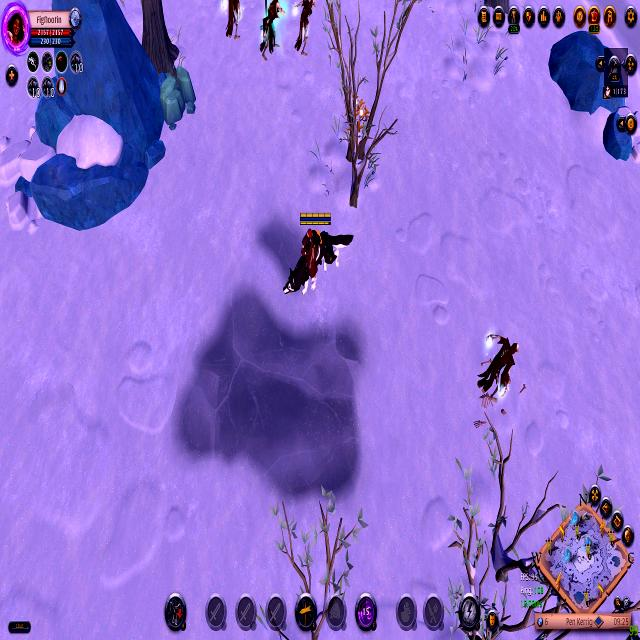hide: (343, 95, 370, 144)
ore: (474, 330, 524, 410), (256, 0, 288, 60), (291, 0, 319, 57), (219, 0, 247, 43)
red: (282, 208, 358, 310)
tree: (156, 61, 196, 136)
